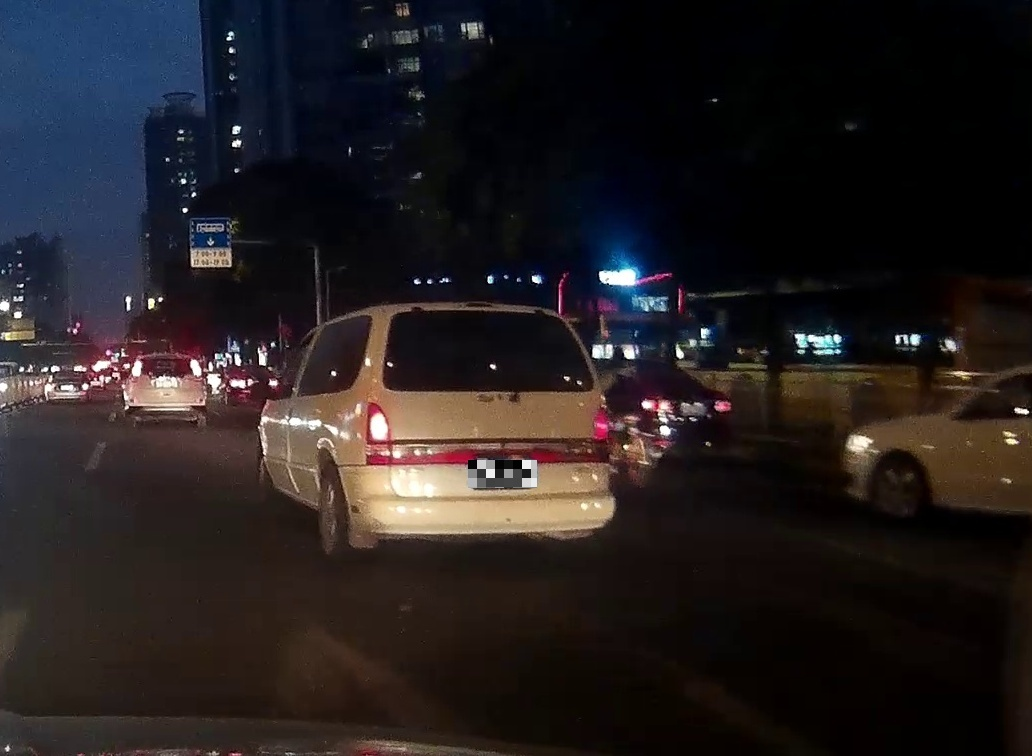L_light: (365, 401, 390, 465), (131, 360, 143, 377)
R_light: (594, 407, 611, 460), (190, 359, 203, 377)
T_light: (459, 302, 496, 312), (158, 356, 177, 360)
night-left: (354, 300, 616, 552)
night-no: (122, 353, 208, 427)
plate_1: (468, 460, 537, 488)
